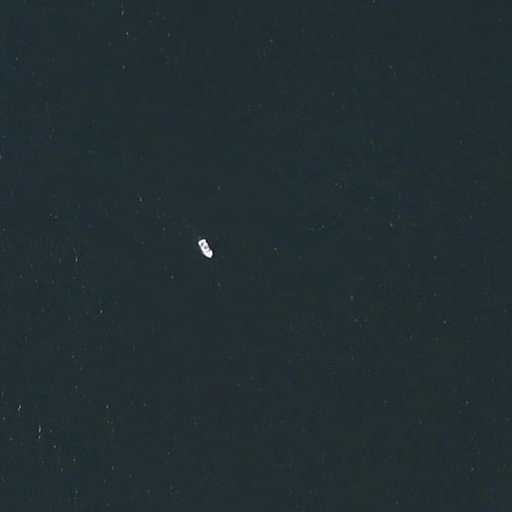ship: (194, 235, 215, 261)
